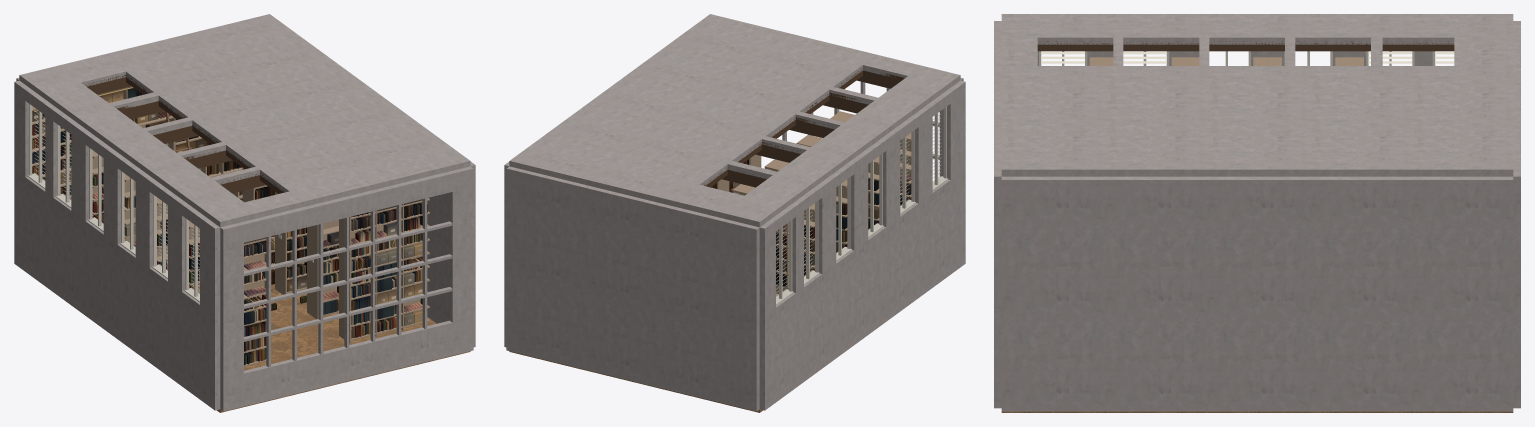
The model's file is archive.glb.
3 views of the same model, side by side, from view 1: azimuth 30°, elevation 25°; view 2: azimuth 150°, elevation 25°; view 3: azimuth 270°, elevation 25° (orthographic). The views are drawn at different scales.
Visible parts, largest first — view 1: Archive_shell, Archive_books; view 2: Archive_shell, Archive_books; view 3: Archive_shell.
Boxes of the visible parts, x1,y1,x2,y2 form: Archive_shell: [14, 14, 475, 412]; Archive_books: [32, 87, 427, 365]; Archive_shell: [504, 14, 965, 412]; Archive_books: [710, 159, 911, 286]; Archive_shell: [994, 14, 1520, 412].
Bounding box in the file's own units: 7.5 × 5.25 × 10.3.
Materials: 45 (17 with a texture image).
